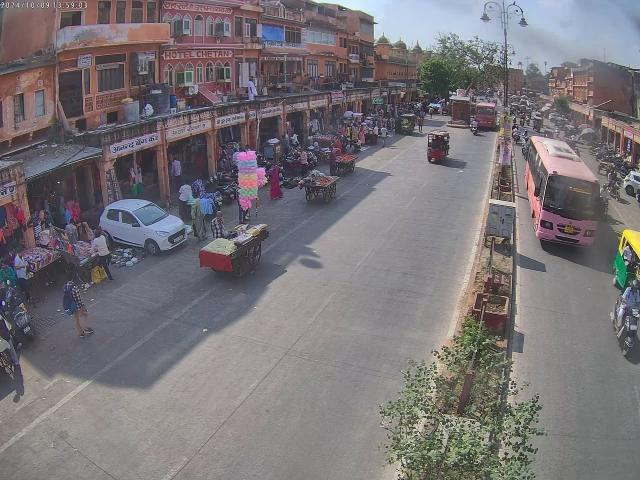auto: (426, 130, 450, 164)
bus: (524, 135, 602, 250)
car: (98, 198, 187, 254)
helmet: (629, 279, 640, 294)
license_plate: (562, 226, 574, 235), (174, 234, 184, 244)
motorbike: (595, 150, 619, 162)
motorbike-rider: (605, 169, 623, 201)
person: (62, 275, 92, 334), (88, 228, 112, 280), (12, 248, 32, 303), (266, 160, 283, 202), (193, 198, 208, 244), (176, 182, 194, 212), (168, 156, 183, 178)
scooty-rider: (607, 282, 640, 359), (7, 299, 32, 339)
vendor: (198, 211, 268, 278), (303, 170, 342, 205), (328, 146, 358, 176)
